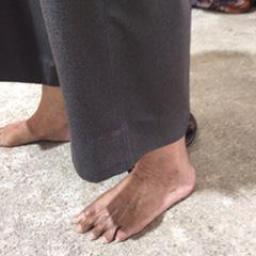Lateral View -Left Foot-: (67, 143, 203, 247)
